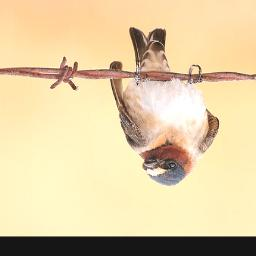Swallow: (109, 26, 220, 187)
